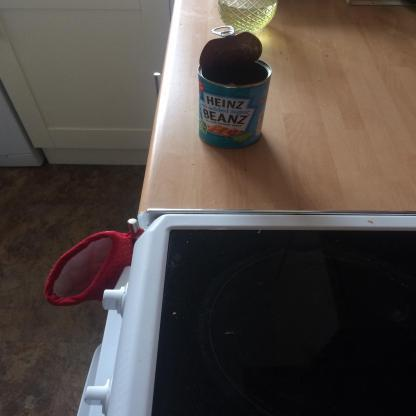metal: (194, 27, 273, 152)
